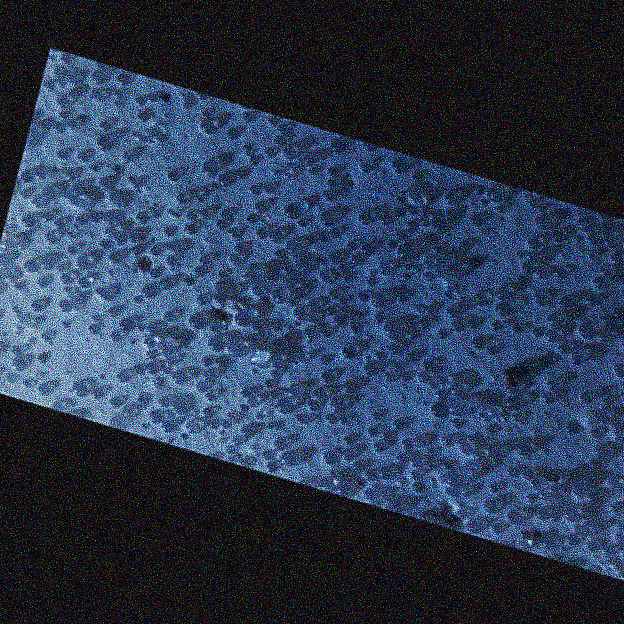GrassBeadSeg: (230, 229, 479, 532), (259, 270, 610, 458), (282, 153, 500, 410), (282, 146, 596, 258), (299, 304, 463, 487), (373, 426, 594, 549), (393, 419, 593, 542), (212, 292, 428, 400), (251, 152, 440, 252), (14, 240, 140, 366), (470, 341, 623, 432), (262, 378, 387, 489), (12, 242, 153, 335), (272, 423, 451, 490), (104, 72, 157, 297), (153, 325, 249, 436), (87, 261, 248, 324), (436, 474, 567, 551), (515, 448, 622, 538), (226, 371, 409, 421), (356, 209, 450, 300), (4, 243, 97, 333), (446, 397, 608, 446), (116, 74, 238, 139), (294, 402, 446, 453), (183, 102, 240, 237), (196, 320, 295, 396), (454, 417, 598, 468), (282, 186, 502, 219), (396, 213, 550, 259), (237, 371, 408, 411), (463, 509, 611, 555), (526, 198, 594, 297), (382, 320, 465, 401), (66, 242, 178, 302), (245, 327, 329, 405), (402, 454, 535, 502), (505, 216, 592, 288), (22, 379, 147, 429), (450, 318, 518, 409), (476, 410, 572, 474), (187, 338, 286, 399), (525, 468, 623, 529), (160, 232, 280, 281), (437, 245, 466, 447), (407, 186, 504, 246), (79, 302, 130, 415), (335, 292, 388, 399), (70, 379, 293, 404), (284, 239, 385, 294), (268, 450, 387, 496), (295, 302, 398, 354), (106, 242, 177, 316), (447, 193, 539, 249), (43, 354, 146, 404), (137, 112, 206, 185), (211, 392, 274, 470), (304, 297, 399, 348), (377, 210, 457, 266), (448, 382, 512, 452), (244, 354, 328, 406), (155, 285, 189, 412), (131, 364, 254, 399), (310, 163, 370, 234), (306, 301, 445, 331), (391, 198, 424, 323), (19, 301, 81, 367), (302, 154, 339, 263), (243, 297, 358, 332), (411, 172, 450, 275), (55, 97, 126, 153), (574, 322, 595, 508), (58, 300, 101, 390), (424, 460, 534, 495), (196, 264, 288, 304), (59, 54, 153, 93), (456, 471, 523, 523), (96, 122, 214, 151), (564, 483, 619, 545), (424, 306, 494, 353), (200, 159, 405, 175), (144, 324, 225, 364), (135, 212, 239, 243), (570, 482, 623, 542), (433, 220, 607, 238), (45, 197, 124, 235), (313, 301, 427, 327), (194, 381, 251, 433), (154, 128, 175, 269), (29, 300, 119, 332), (422, 214, 473, 269), (411, 479, 496, 510), (369, 380, 436, 419), (116, 355, 174, 400), (250, 320, 299, 373), (185, 421, 284, 447), (324, 305, 381, 350), (328, 214, 390, 255), (145, 348, 206, 389), (413, 204, 459, 258), (242, 111, 266, 212), (319, 372, 439, 392), (488, 483, 614, 502), (339, 137, 407, 172), (55, 263, 94, 324), (334, 289, 433, 313), (320, 314, 359, 374), (272, 400, 318, 450), (427, 198, 535, 219), (593, 427, 620, 511), (147, 200, 201, 242), (193, 355, 223, 429), (73, 254, 89, 392), (208, 326, 257, 371), (199, 156, 256, 194), (373, 262, 409, 322), (61, 79, 143, 105), (540, 351, 580, 403), (36, 371, 126, 394), (458, 261, 511, 300), (254, 137, 285, 203), (0, 314, 30, 382), (374, 319, 424, 359), (338, 467, 424, 490), (604, 227, 622, 336), (26, 215, 115, 237), (0, 254, 40, 302), (333, 430, 393, 462), (246, 388, 304, 421), (357, 289, 469, 306), (261, 413, 303, 458), (191, 223, 225, 278), (198, 119, 232, 174), (401, 231, 443, 275), (271, 148, 336, 176), (56, 74, 128, 99), (76, 278, 256, 288), (207, 115, 250, 156), (290, 288, 352, 316), (538, 247, 557, 335), (328, 397, 444, 411), (461, 469, 519, 497), (597, 331, 621, 398), (511, 379, 550, 420), (413, 241, 466, 271), (11, 359, 155, 370), (421, 399, 460, 439), (613, 223, 623, 376), (269, 379, 437, 388), (403, 265, 459, 292), (506, 463, 549, 498), (97, 377, 138, 413), (405, 306, 451, 338), (250, 231, 273, 295), (557, 341, 621, 364), (543, 390, 577, 433), (488, 410, 527, 447), (532, 236, 567, 277), (187, 313, 224, 351), (434, 184, 483, 212), (328, 137, 346, 213), (12, 263, 62, 290), (168, 266, 218, 293), (447, 261, 489, 293), (292, 257, 313, 320), (268, 355, 327, 377), (211, 326, 223, 434), (441, 197, 489, 223), (501, 204, 524, 258), (383, 433, 452, 451), (565, 420, 623, 441), (276, 124, 322, 150), (273, 136, 314, 165), (598, 227, 623, 274), (450, 388, 517, 405), (259, 296, 298, 325), (151, 105, 188, 135), (163, 293, 201, 322), (523, 274, 541, 335), (401, 219, 416, 292), (90, 86, 111, 138), (44, 226, 108, 243), (447, 460, 466, 517), (1, 241, 23, 290), (87, 211, 112, 254), (243, 266, 286, 291), (143, 362, 168, 404), (586, 232, 605, 287), (15, 335, 37, 382), (522, 260, 546, 303), (400, 420, 418, 477), (517, 505, 581, 521), (112, 151, 133, 199), (358, 212, 429, 226), (415, 288, 460, 310), (224, 412, 263, 437), (294, 203, 336, 226), (270, 288, 288, 341), (556, 235, 570, 303), (226, 317, 251, 355), (235, 166, 314, 178), (494, 302, 561, 316), (372, 239, 396, 277), (534, 213, 590, 229), (336, 296, 380, 316), (550, 252, 622, 264), (515, 540, 610, 549), (45, 384, 102, 399), (86, 178, 109, 215), (417, 371, 446, 400), (291, 238, 315, 273), (592, 261, 623, 288), (206, 335, 244, 357), (223, 269, 246, 305), (139, 422, 187, 439), (377, 258, 427, 274), (534, 506, 554, 546), (481, 386, 513, 411), (545, 311, 593, 327), (153, 349, 166, 407), (260, 264, 294, 286), (394, 173, 418, 204), (565, 475, 579, 528), (550, 229, 599, 244), (315, 149, 367, 163), (207, 418, 233, 446), (436, 319, 476, 337), (451, 439, 483, 461), (316, 233, 393, 242), (345, 263, 375, 286), (418, 214, 480, 225), (338, 262, 406, 272), (480, 185, 504, 213), (60, 320, 144, 328), (30, 374, 104, 383), (605, 266, 618, 317), (491, 522, 524, 542), (484, 411, 515, 432), (533, 290, 571, 307), (19, 282, 33, 327), (481, 440, 511, 461), (527, 511, 558, 531), (98, 313, 120, 341), (30, 168, 45, 207), (18, 171, 31, 216), (473, 290, 509, 306), (340, 447, 364, 470), (171, 356, 197, 377), (383, 370, 428, 382), (1, 242, 15, 280), (200, 356, 210, 409), (17, 331, 50, 347), (596, 477, 618, 501), (559, 526, 580, 551), (162, 365, 172, 417), (351, 459, 377, 479), (349, 466, 389, 479), (394, 291, 431, 305), (226, 112, 253, 131), (406, 350, 433, 369), (67, 295, 139, 302), (116, 370, 129, 408), (391, 358, 426, 372), (181, 432, 225, 443), (472, 490, 495, 511), (498, 523, 530, 538), (450, 324, 482, 339), (183, 194, 195, 233), (90, 306, 117, 323), (545, 380, 583, 392), (35, 273, 65, 288), (77, 177, 103, 194), (578, 391, 622, 401), (338, 411, 378, 422), (585, 292, 621, 304), (541, 535, 577, 547), (204, 357, 214, 400), (174, 171, 187, 204), (587, 238, 612, 255), (48, 183, 76, 198), (230, 436, 248, 459), (216, 163, 234, 186), (405, 327, 417, 361), (159, 279, 171, 313), (516, 269, 545, 283), (131, 412, 232, 416), (322, 450, 353, 463), (416, 194, 456, 204), (432, 446, 450, 468), (109, 396, 145, 407), (320, 324, 356, 335), (521, 264, 565, 273), (43, 76, 73, 89), (36, 332, 49, 362), (127, 212, 140, 242), (532, 251, 546, 278), (492, 479, 539, 487), (445, 295, 462, 317), (536, 487, 548, 518), (566, 341, 582, 364), (372, 436, 395, 452), (264, 117, 273, 157), (260, 283, 296, 293), (89, 69, 107, 89), (306, 389, 323, 410), (294, 386, 321, 399), (412, 436, 422, 471), (27, 336, 34, 386), (107, 234, 119, 263), (364, 467, 390, 480), (239, 387, 276, 396), (349, 425, 376, 437), (395, 439, 409, 462), (400, 263, 420, 279), (394, 207, 404, 239), (36, 259, 52, 279), (238, 457, 273, 466), (450, 418, 489, 426), (589, 428, 599, 459), (307, 166, 332, 178), (428, 272, 453, 284), (10, 345, 20, 375), (467, 318, 500, 327), (159, 365, 196, 373), (111, 231, 132, 245), (112, 88, 141, 98), (66, 55, 76, 84), (491, 319, 520, 329), (279, 450, 297, 466), (241, 141, 251, 169), (393, 206, 413, 220), (267, 370, 277, 398), (23, 259, 46, 271), (181, 407, 211, 416), (511, 323, 540, 332), (342, 414, 351, 443), (357, 213, 383, 223), (383, 361, 396, 381), (275, 397, 292, 412), (144, 92, 156, 113), (248, 142, 259, 164), (224, 436, 239, 452), (401, 196, 415, 213), (422, 267, 440, 280), (581, 488, 597, 502), (59, 274, 81, 284), (135, 299, 142, 330), (266, 299, 295, 306), (325, 167, 335, 187), (401, 437, 421, 447), (27, 167, 45, 178), (169, 409, 183, 423), (262, 413, 274, 429), (221, 413, 231, 432), (620, 287, 623, 349), (341, 344, 355, 357), (201, 368, 215, 381), (112, 89, 122, 107), (303, 233, 323, 242), (327, 289, 337, 306), (425, 445, 435, 462), (321, 187, 334, 200), (324, 411, 337, 424), (320, 478, 333, 491), (268, 355, 281, 368), (118, 318, 131, 331), (335, 483, 349, 495), (544, 328, 556, 341), (319, 269, 332, 281), (332, 314, 345, 326), (363, 362, 376, 374), (343, 380, 356, 392), (362, 487, 375, 499), (407, 453, 420, 465), (161, 419, 174, 431), (148, 410, 161, 422), (172, 371, 185, 383), (266, 116, 283, 125), (20, 339, 35, 349), (214, 419, 229, 428), (166, 170, 178, 181), (39, 188, 47, 204), (443, 477, 451, 493), (50, 78, 64, 87), (521, 250, 535, 259), (61, 285, 72, 296), (233, 244, 245, 254), (20, 216, 32, 226), (456, 240, 469, 249), (521, 469, 534, 478), (245, 213, 255, 223), (274, 248, 284, 258), (198, 208, 208, 218), (53, 218, 63, 228), (215, 219, 225, 228), (219, 208, 229, 217), (296, 217, 306, 226), (229, 254, 239, 263), (193, 266, 203, 275), (236, 280, 246, 289), (328, 228, 338, 237), (198, 255, 208, 264), (361, 243, 371, 252), (346, 240, 356, 249), (350, 254, 360, 263), (249, 184, 259, 193), (262, 183, 272, 192), (184, 210, 194, 219), (163, 226, 173, 235), (147, 268, 157, 277), (182, 275, 192, 284), (165, 256, 175, 265), (149, 245, 159, 254), (130, 245, 140, 254), (75, 215, 85, 224), (66, 245, 76, 254), (41, 212, 51, 221), (130, 178, 140, 187), (111, 165, 121, 174), (76, 151, 86, 160), (56, 150, 66, 159), (65, 170, 75, 179), (88, 162, 98, 171), (18, 189, 28, 198), (99, 121, 109, 130), (57, 110, 67, 119), (53, 122, 63, 131), (66, 120, 76, 129), (66, 285, 78, 292), (255, 228, 264, 237), (99, 239, 108, 248), (341, 273, 351, 281), (195, 195, 202, 200), (200, 112, 207, 117)
